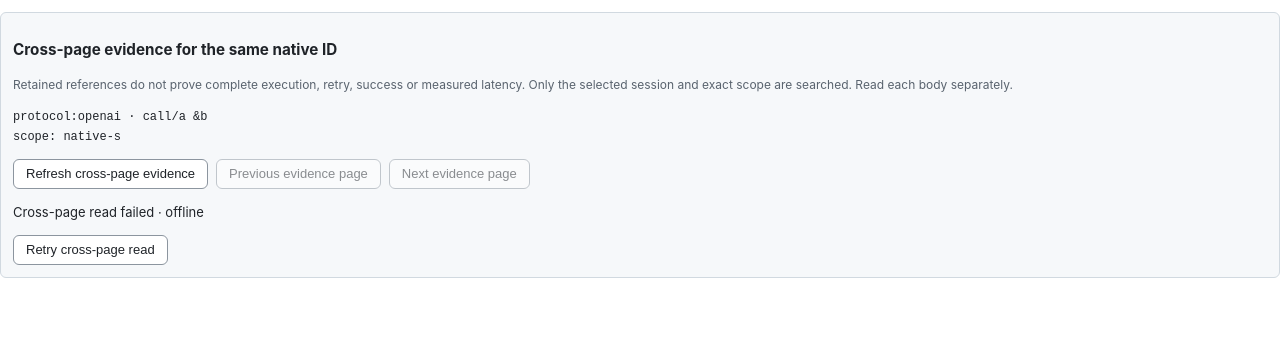
Test: cross-page native tool evidence › supports explicit error retry without automatic retry
Click the button "Retry cross-page read" at (90, 250), box x1=13 y1=235 x2=168 y2=265
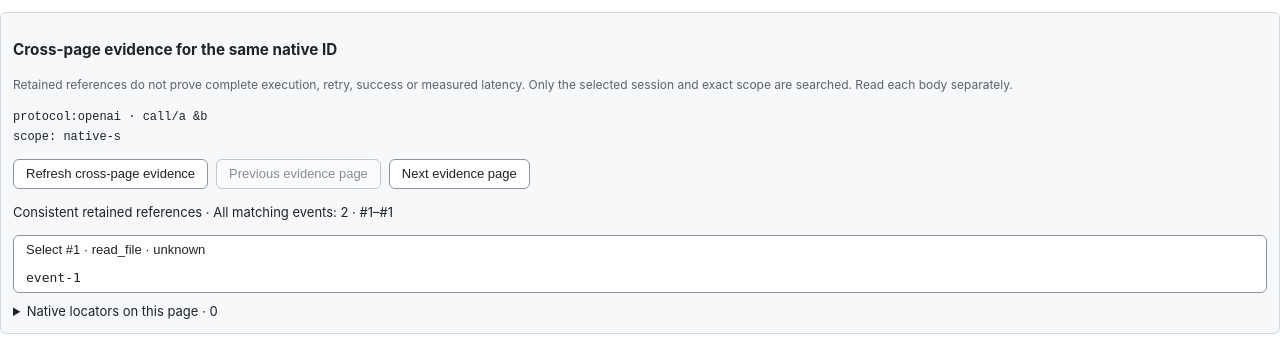
expect the message "Cross-page read failed · offline Retry cross-page read" is gone: met
